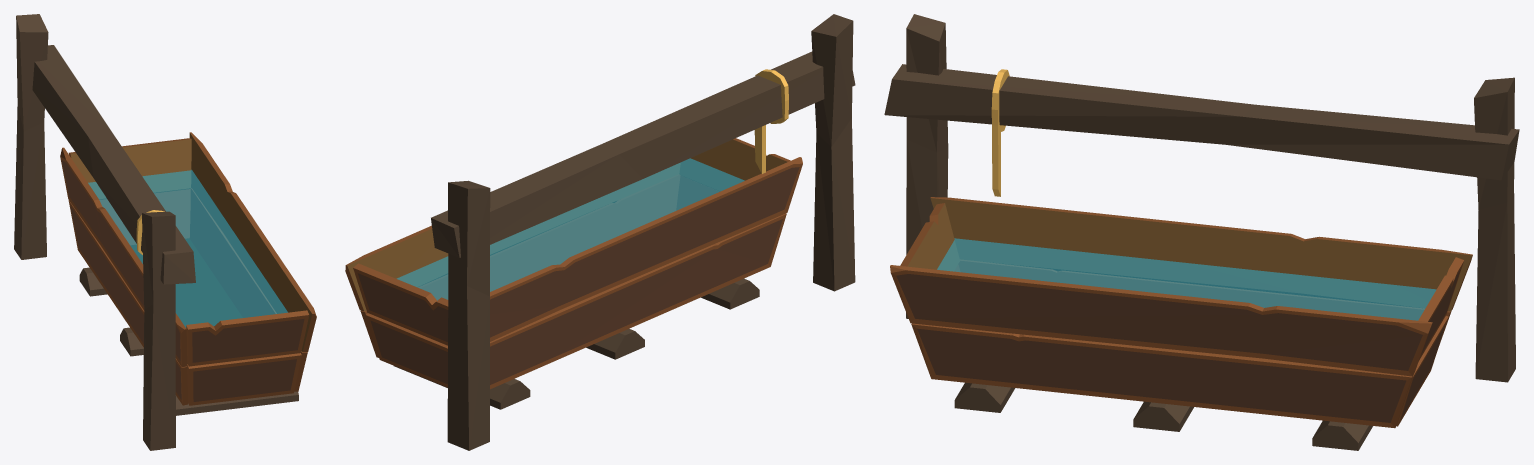
Rendered from waterTrough-0,0.glb.
3 views of the same model, side by side, from view 1: azimuth 30°, elevation 25°; view 2: azimuth 150°, elevation 25°; view 3: azimuth 270°, elevation 25° (orthographic). The views are drawn at different scales.
Visible parts, largest first — view 1: Cubo.163; view 2: Cubo.163; view 3: Cubo.163.
Boxes of the visible parts, x1,y1,x2,y2 form: Cubo.163: [14, 14, 316, 450]; Cubo.163: [345, 14, 855, 450]; Cubo.163: [884, 14, 1519, 450].
Bounding box in the file's own units: 2.34 × 2.11 × 4.12.
